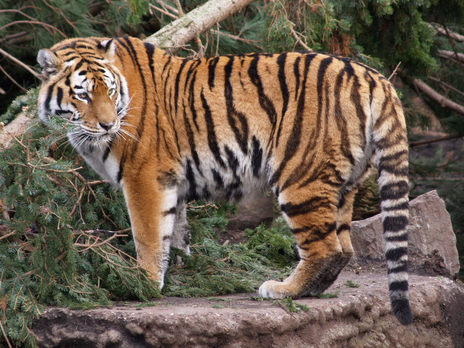Tiger: (37, 34, 426, 326)
